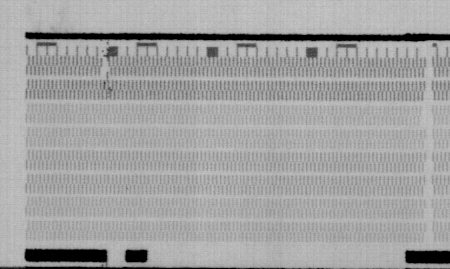Broken hole: (99, 58, 109, 79)
Oblique printing: (105, 66, 112, 81)
